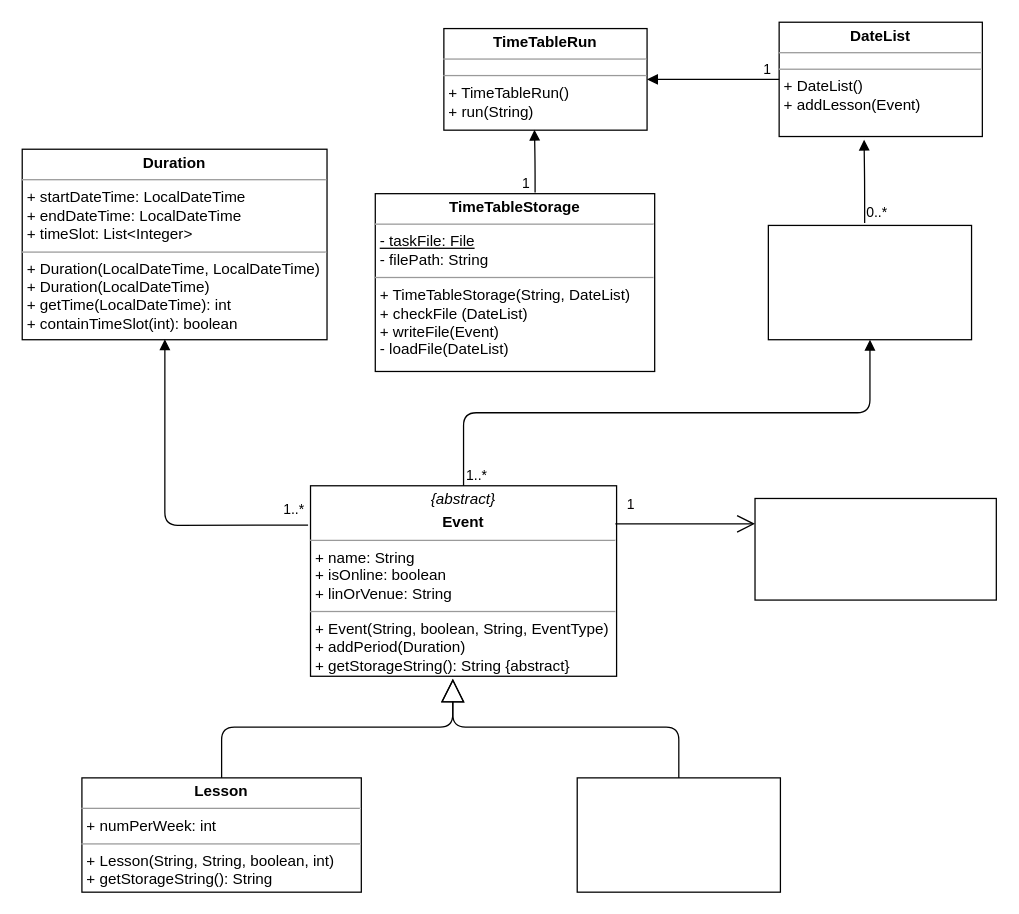
Image size: 1019x914. Some labels were removed from this diagram. Here are the shapes that lost their labels. From the top down, the centre of each, then its label:
point 869,282: EventList + dateTag: LocalDate + EventList(LocalDateTime) + addEvent(Event)
point 875,548: <<enumeation>> EventType A L
point 678,834: Activity + addPeriod(Duration) + getStorageString(): String
